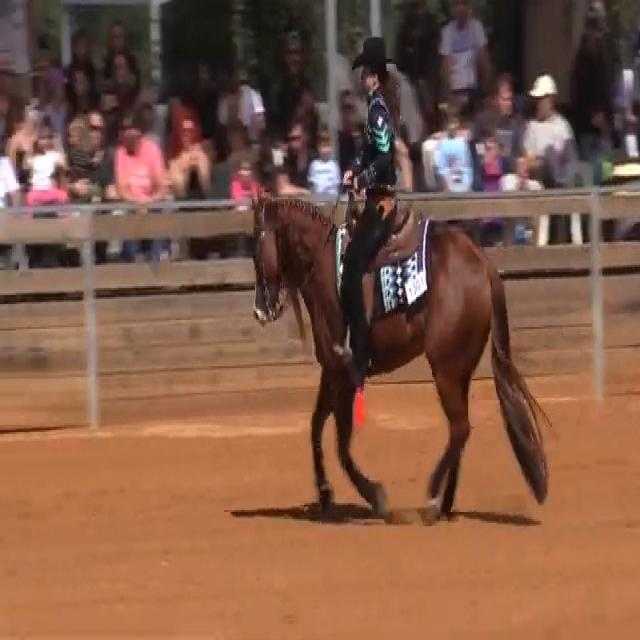horse: (250, 185, 552, 523)
